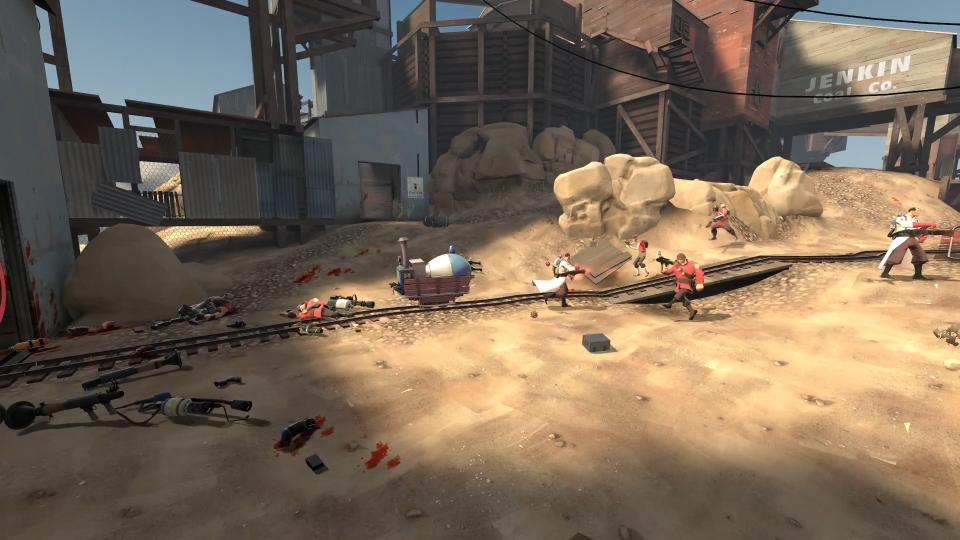Enemy: (878, 207, 956, 282), (655, 251, 705, 321), (532, 252, 586, 308), (170, 292, 235, 326), (296, 297, 354, 322), (705, 204, 739, 243), (625, 234, 652, 278)
